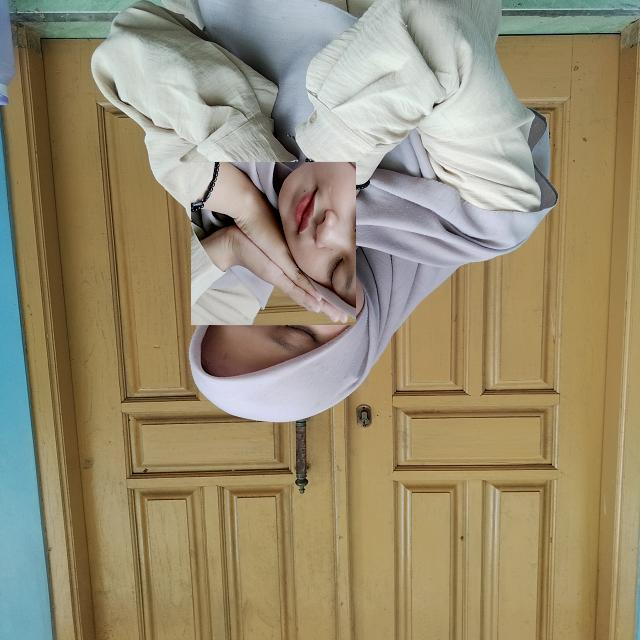tidur: (191, 161, 356, 326)
